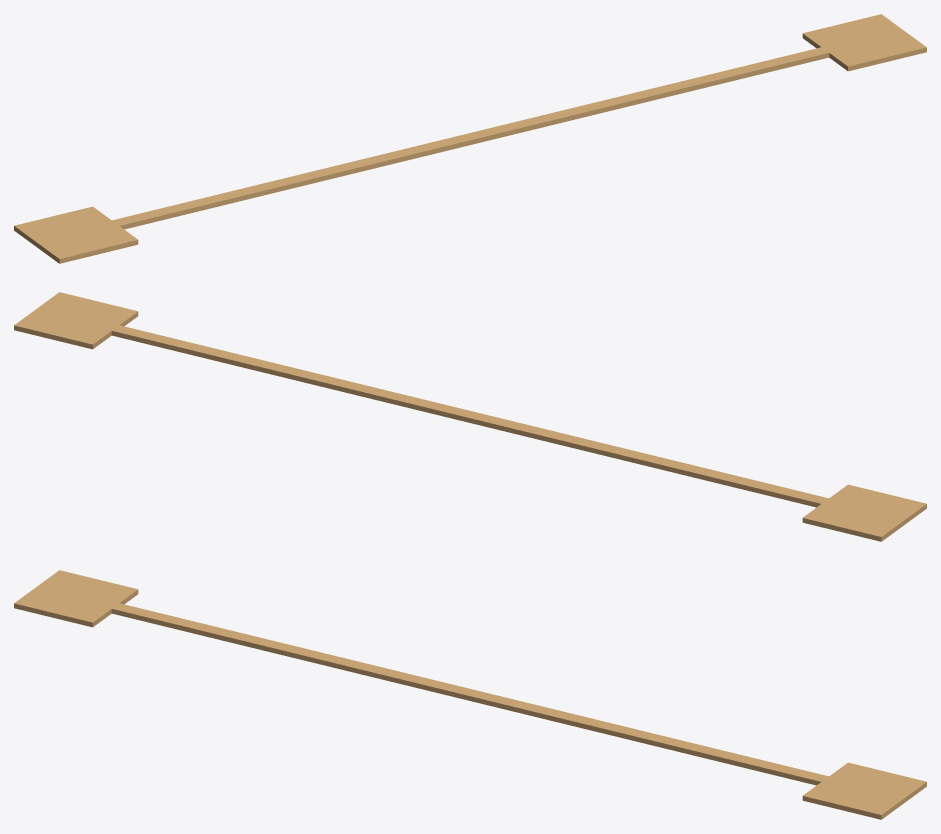
The model's file is board.glb.
3 views of the same model, one above another, from view 1: azimuth 30°, elevation 25°; view 2: azimuth 150°, elevation 25°; view 3: azimuth 330°, elevation 25° (orthographic).
Parts seen in each view (by area): view 1: Unified_Net_1_Island_0; view 2: Unified_Net_1_Island_0; view 3: Unified_Net_1_Island_0.
Part boxes in pixels (box(x1,y1,x2,y2)): Unified_Net_1_Island_0: box(14, 14, 926, 263); Unified_Net_1_Island_0: box(14, 292, 926, 541); Unified_Net_1_Island_0: box(14, 570, 926, 819).
Bounding box in the file's own units: 0.0066 × 3.5e-05 × 0.0006.
